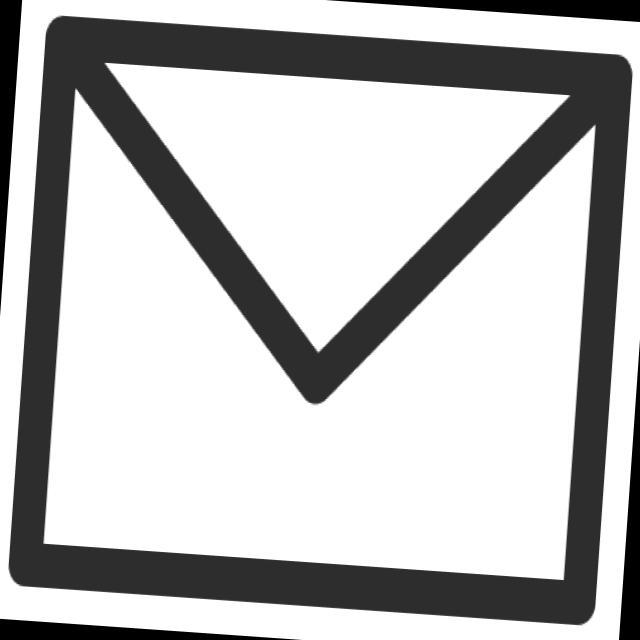letter: (1, 1, 640, 637)
